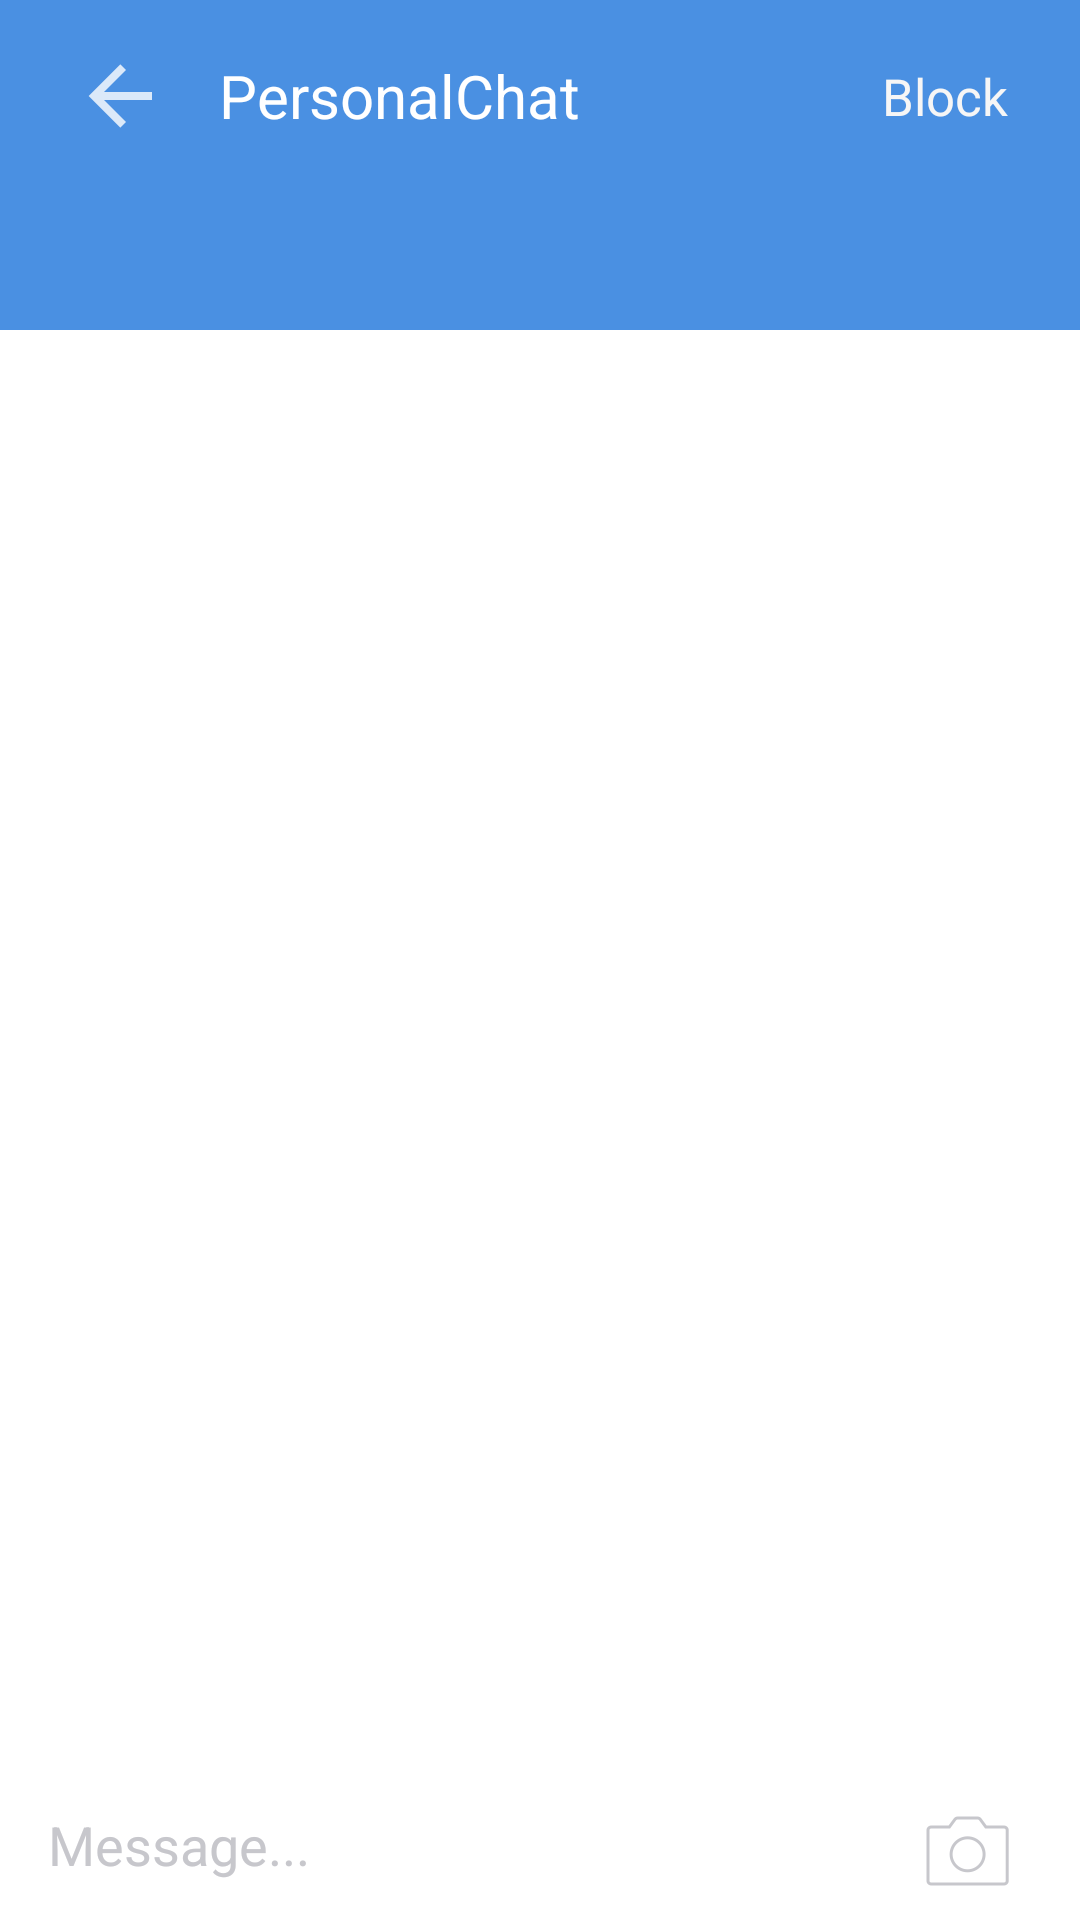

Named icons in this screenshot (1080px×1920px) and their bounding boxes, [x1,y1,x2,y2]:
arrow left: [89,64,152,128]
camera: [926,1816,1009,1886]
